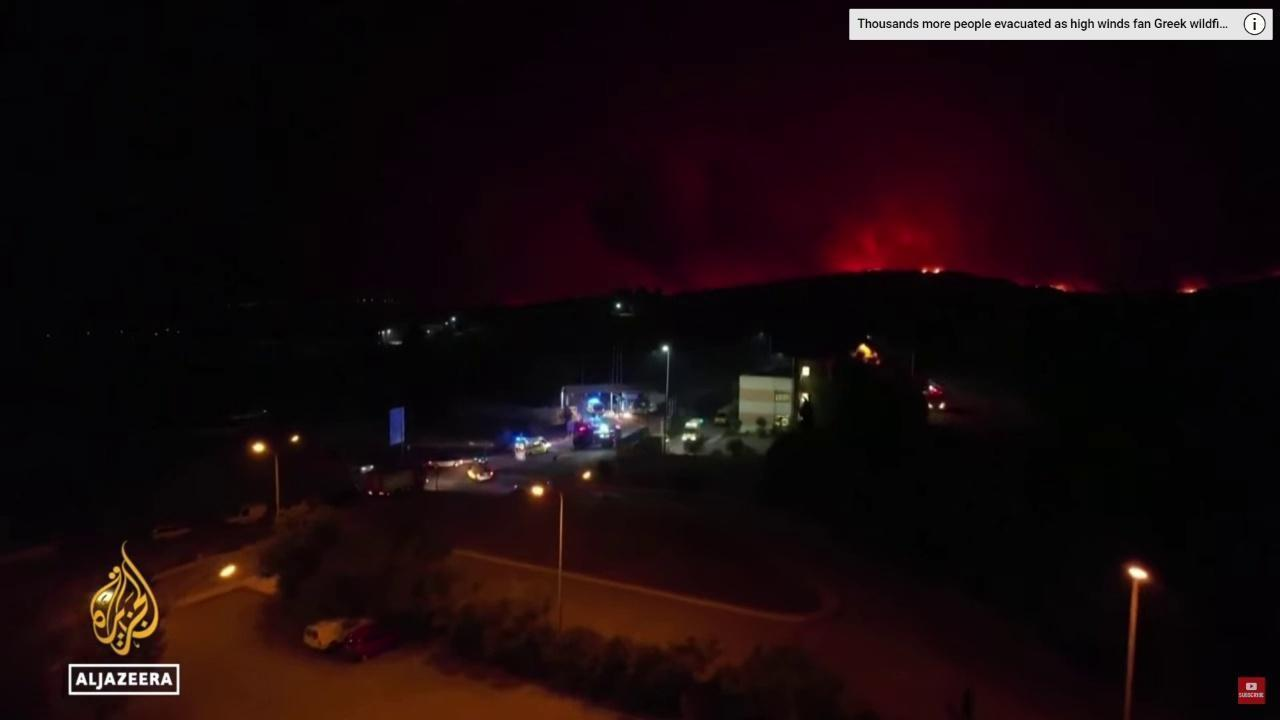fire: (1052, 281, 1067, 292), (1181, 287, 1199, 294), (931, 266, 943, 274), (919, 266, 929, 274)
smoke: (530, 91, 1105, 306)
